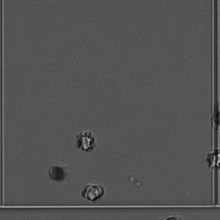Dead Cell: (73, 127, 100, 154), (79, 181, 105, 207), (45, 162, 69, 186)
